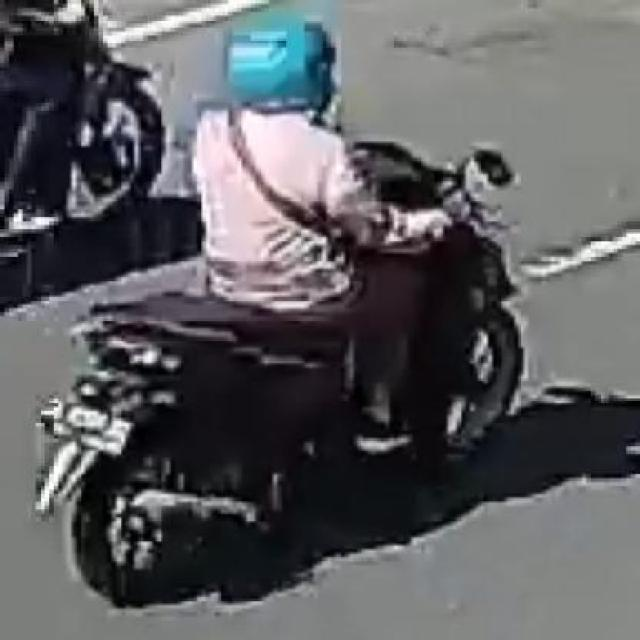helmet: (191, 3, 370, 132)
motorcycle: (45, 2, 564, 611)
